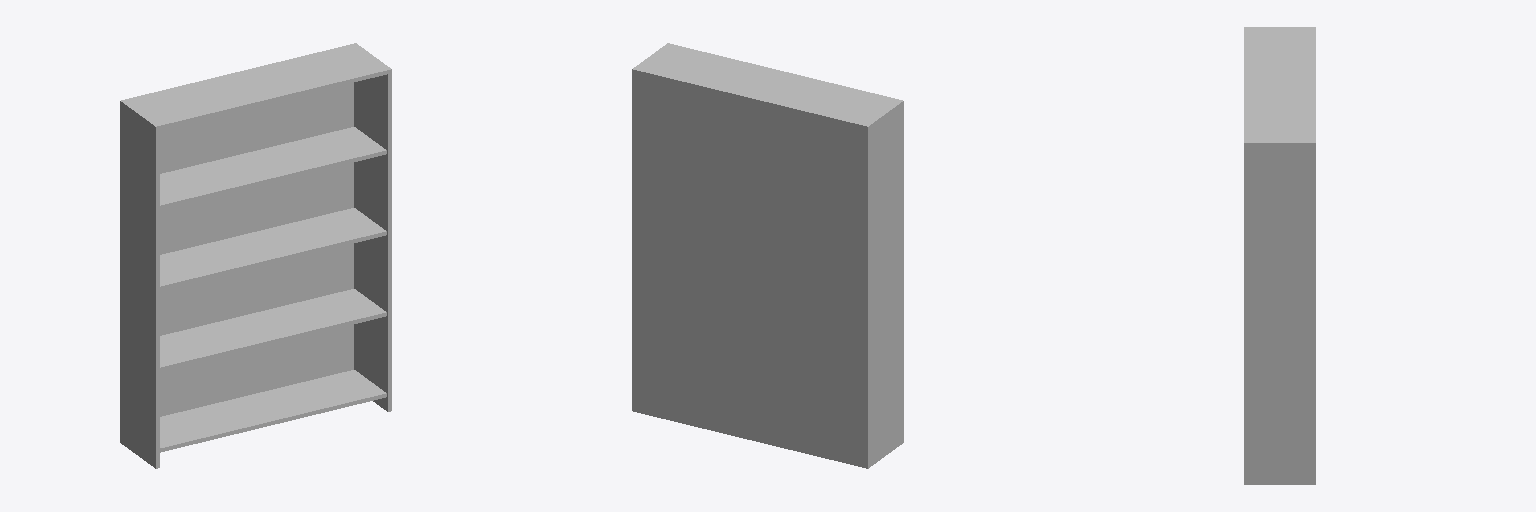
File: shelf_mp_5_1.obj
The picture shows the model from 3 angles: view 1: azimuth 30°, elevation 25°; view 2: azimuth 150°, elevation 25°; view 3: azimuth 270°, elevation 25°; orthographic projection.
Parts seen in each view (by area): view 1: shelf_mp_5_1; view 2: shelf_mp_5_1; view 3: shelf_mp_5_1.
Part boxes in pixels (bbox=[...]): shelf_mp_5_1: bbox=[120, 43, 391, 468]; shelf_mp_5_1: bbox=[632, 43, 903, 468]; shelf_mp_5_1: bbox=[1244, 27, 1315, 484].
Bounding box in the file's own units: 1.22 × 1.69 × 0.32.